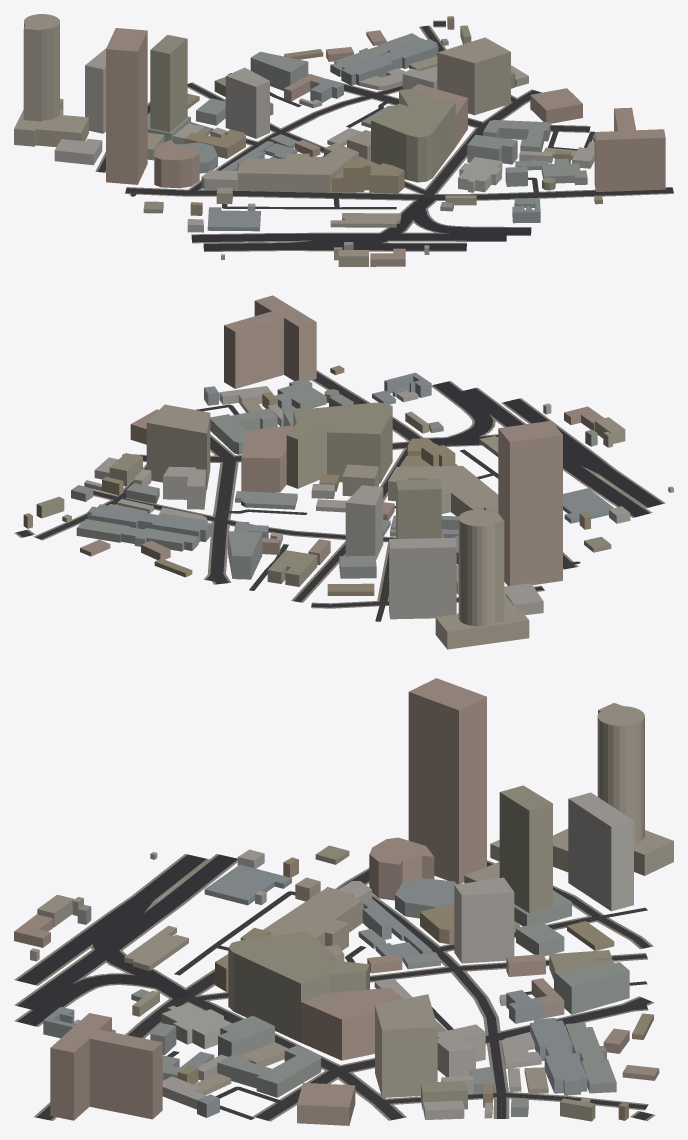
3 views of the same model, one above another, from view 1: azimuth 30°, elevation 25°; view 2: azimuth 150°, elevation 25°; view 3: azimuth 270°, elevation 25° (orthographic). The views are drawn at different scales.
Parts seen in each view (by area): view 1: tile_-2_0; view 2: tile_-2_0; view 3: tile_-2_0.
Boxes of the visible parts, left/top/right/bottom form: tile_-2_0: left=14, top=14, right=673, bottom=266; tile_-2_0: left=14, top=295, right=673, bottom=649; tile_-2_0: left=14, top=678, right=673, bottom=1125.
Bounding box in the file's own units: 447 × 124 × 425.
